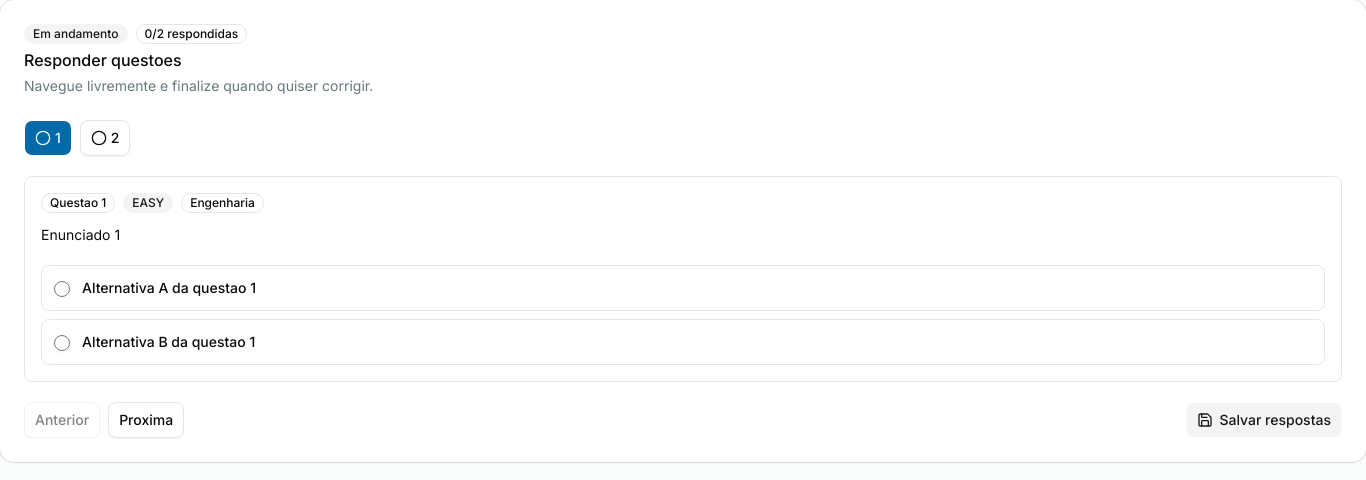
Test: SimulationAttemptView › mostra a finalizacao apenas na ultima questao
The width and height of the screenshot is (1366, 480).
Expected: the button "Finalizar e corrigir" is not shown
Click the button "Proxima": (146,420) [108, 402, 184, 438]
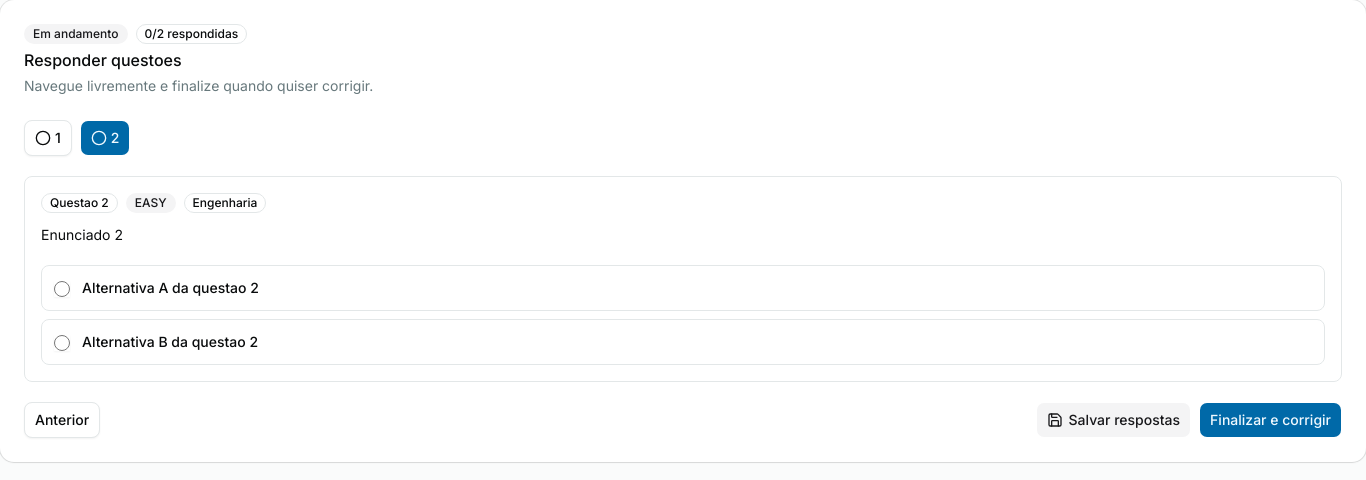
Expected: the button "Finalizar e corrigir" is shown, [1199, 402, 1342, 438]
Expected: the button "Proxima" is gone
